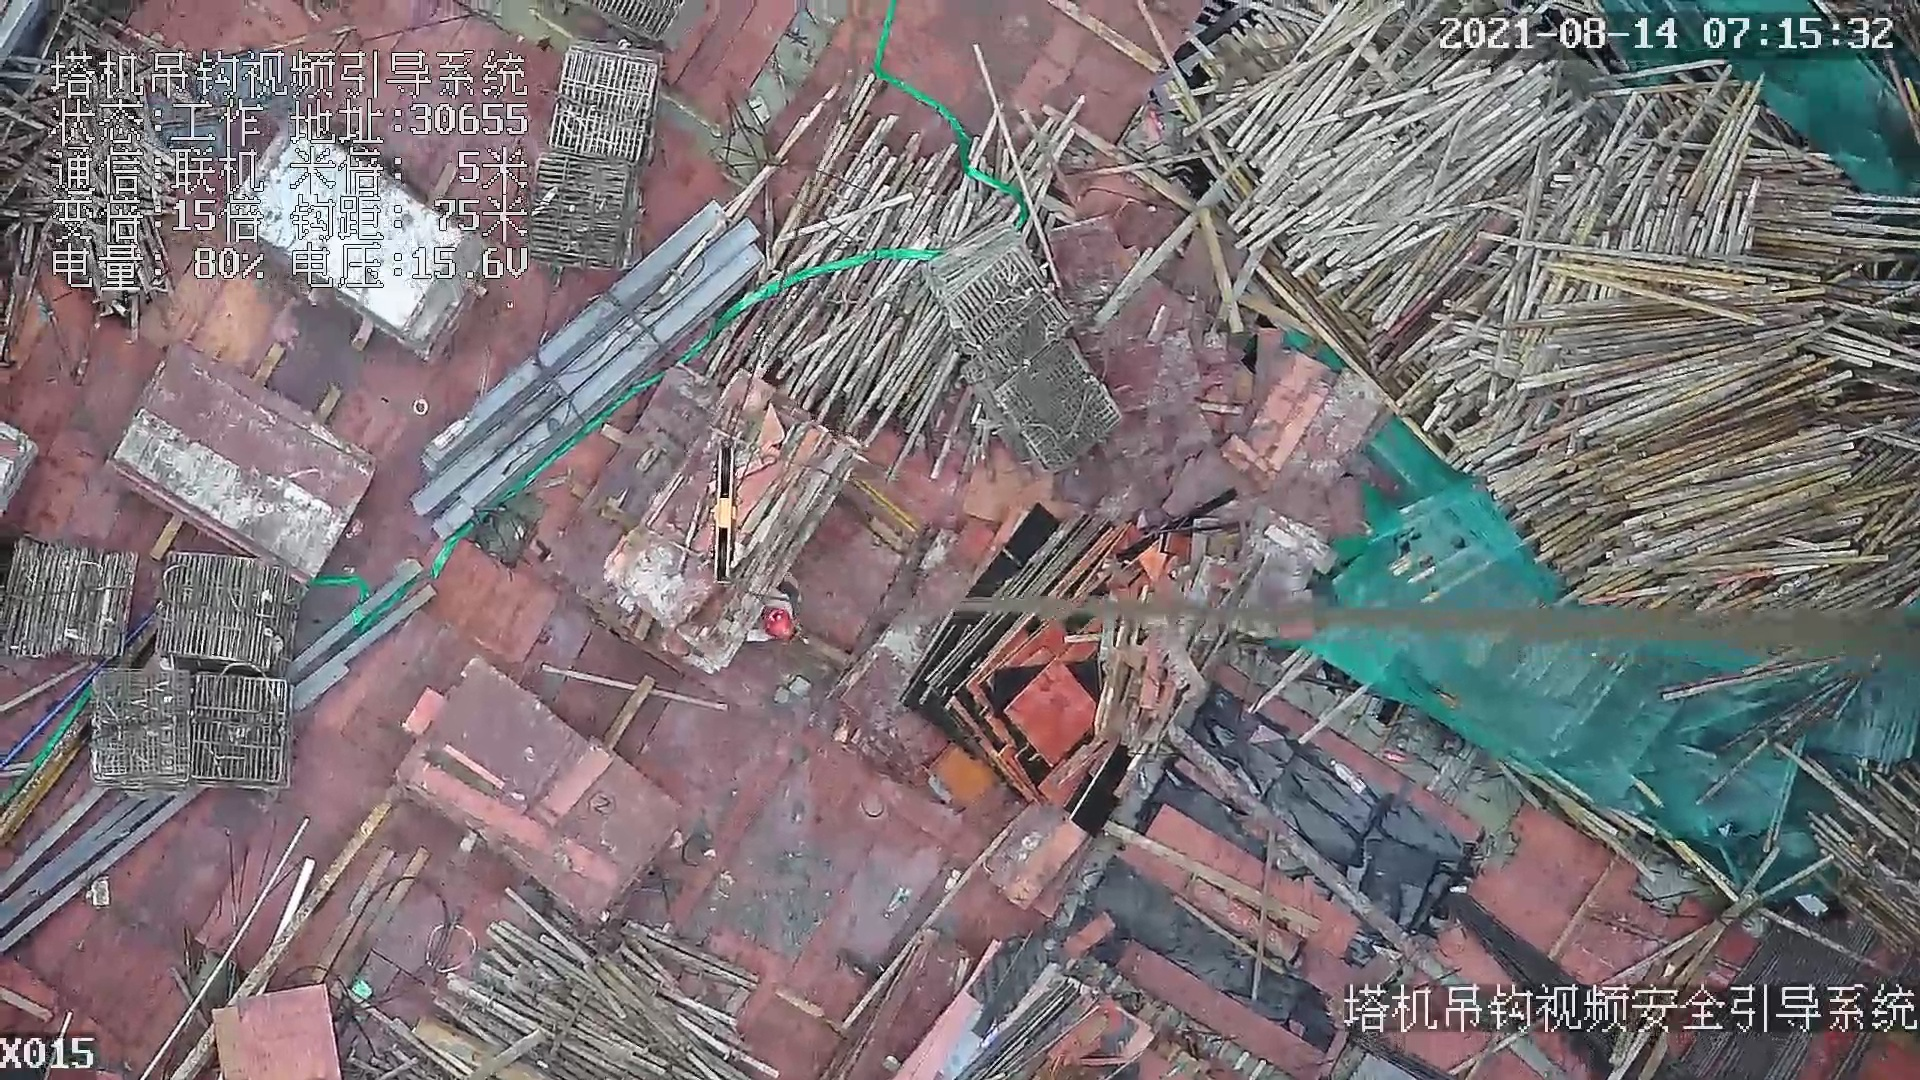helmet: (763, 604, 801, 639)
hook: (701, 441, 741, 586)
person: (755, 592, 797, 640)
